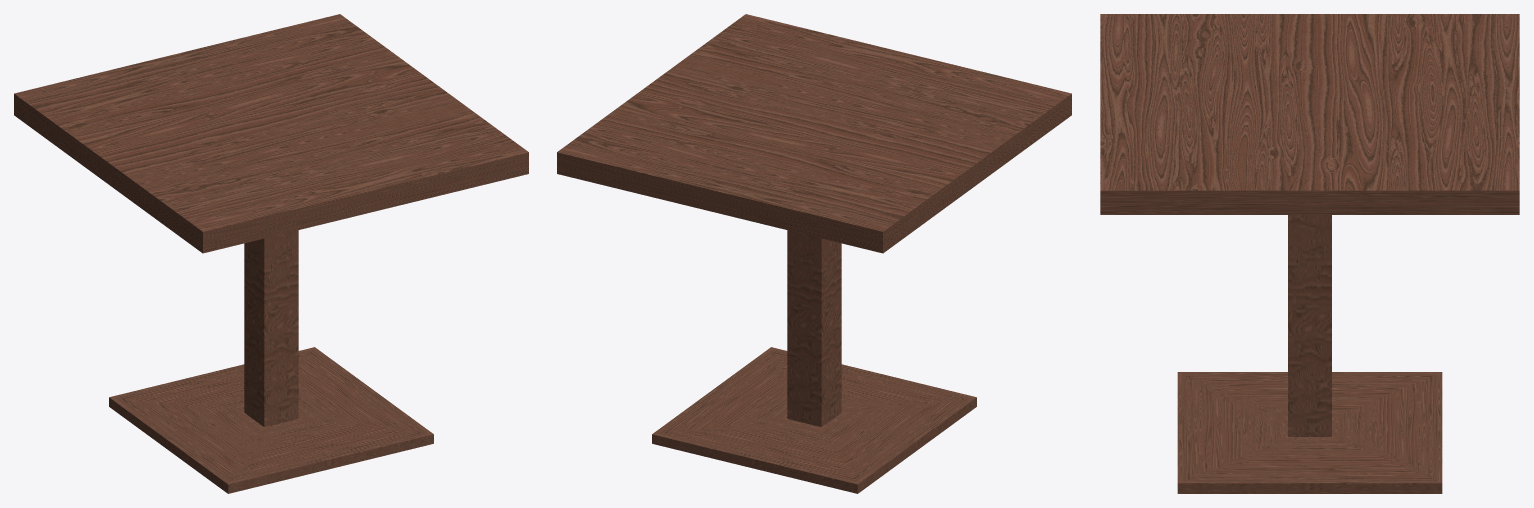
Rendered from masa_002.gltf.
3 renders of one model, left to right at view 1: azimuth 30°, elevation 25°; view 2: azimuth 150°, elevation 25°; view 3: azimuth 270°, elevation 25°, orthographic. The views are drawn at different scales.
Parts seen in each view (by area): view 1: Cube; view 2: Cube; view 3: Cube.
Boxes of the visible parts, box(x1,y1,x2,y2) form: Cube: box(14, 14, 528, 493); Cube: box(557, 14, 1071, 493); Cube: box(1100, 14, 1519, 493).
Size of the model in its own units: 3.28 by 2.91 by 3.29.
1 material, 1 textured.
